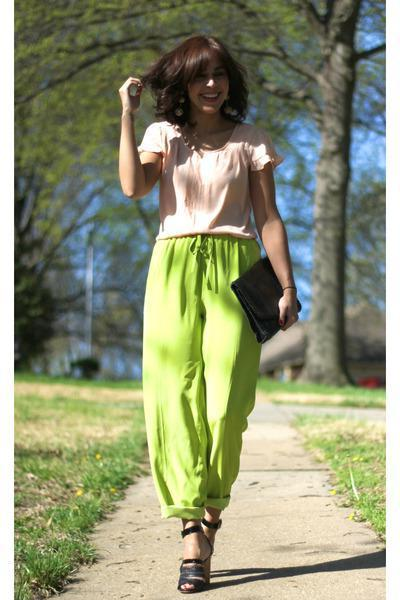short sleeve shirt: (131, 117, 287, 245)
trousers: (136, 234, 266, 517)
